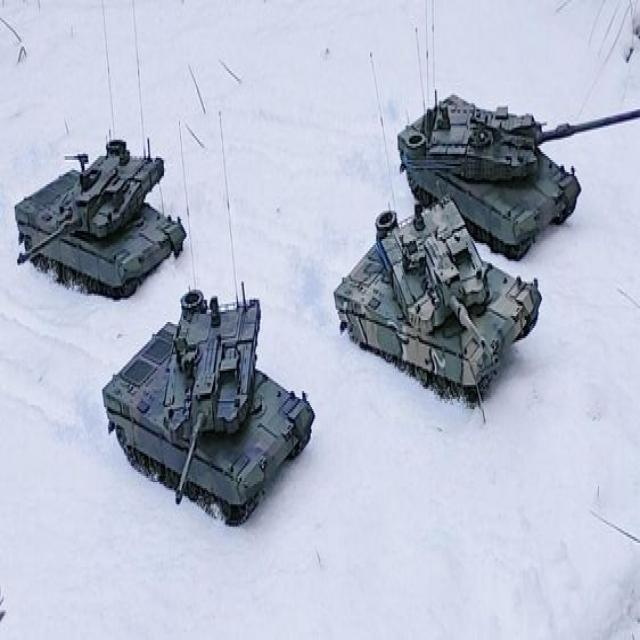Tanks: (102, 292, 314, 520), (325, 202, 543, 408), (396, 75, 640, 251), (7, 134, 184, 302)
